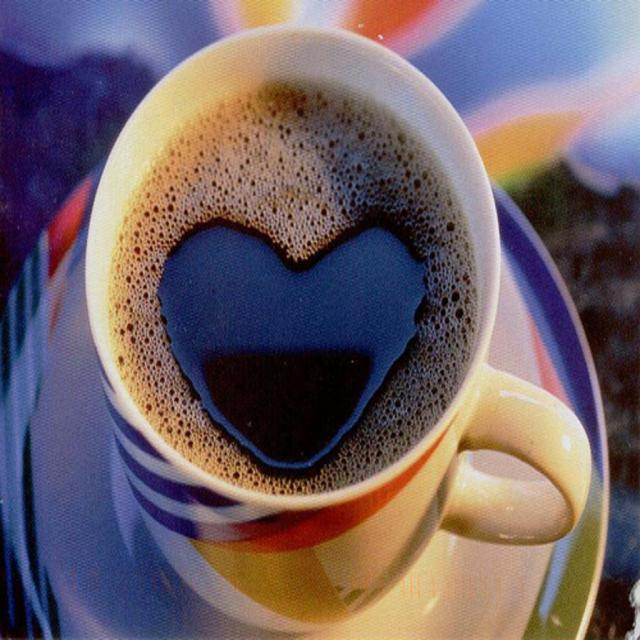Coffee: (107, 85, 475, 495)
Tea: (108, 72, 476, 498)
